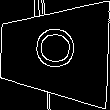O_W: (31, 30, 78, 76)
